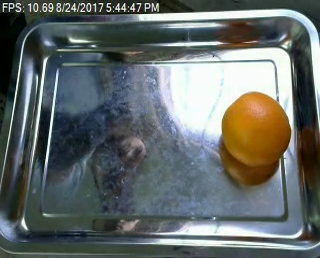Orange: (219, 90, 292, 166)
